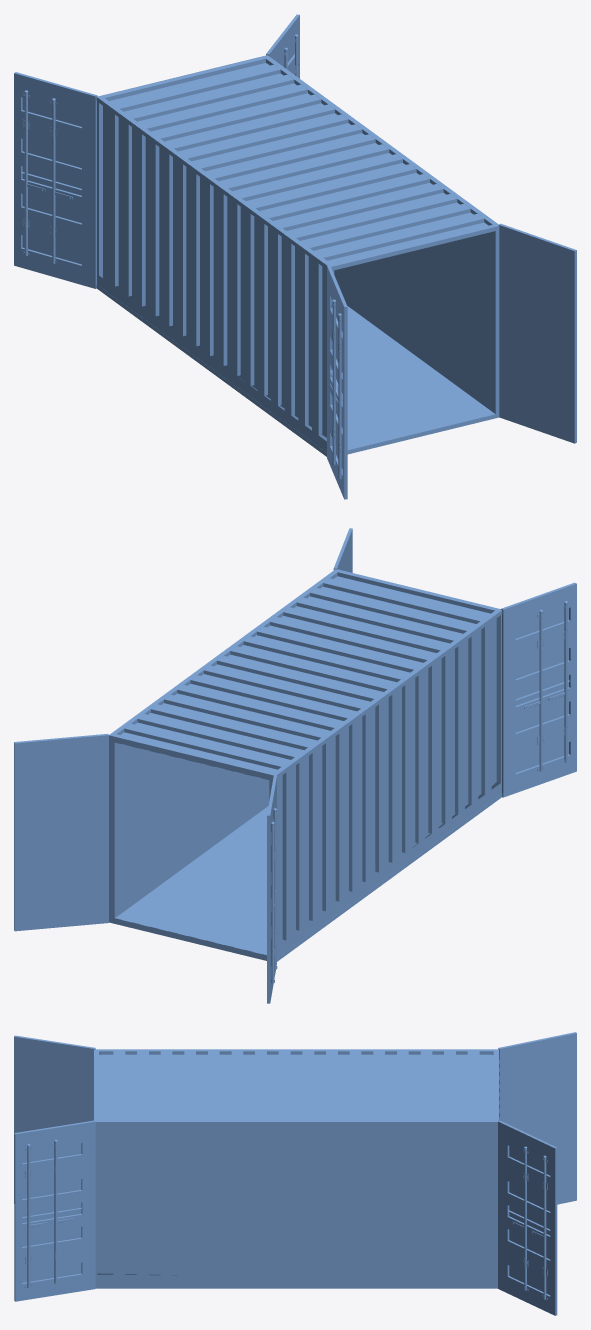
Rendered from cargo_container.fbx.
3 views of the same model, one above another, from view 1: azimuth 30°, elevation 25°; view 2: azimuth 150°, elevation 25°; view 3: azimuth 270°, elevation 25° (orthographic). The views are drawn at different scales.
Visible parts, largest first — view 1: container, door_left; view 2: container, door_left; view 3: container, door_left.
Part boxes in pixels (x1,y1,x2,y2): container: [96, 55, 499, 456]; door_left: [14, 14, 576, 499]; container: [109, 569, 502, 961]; door_left: [14, 528, 576, 1003]; container: [94, 1049, 499, 1288]; door_left: [14, 1032, 576, 1315].
Size of the model in its own units: 857 by 575 by 1750.
